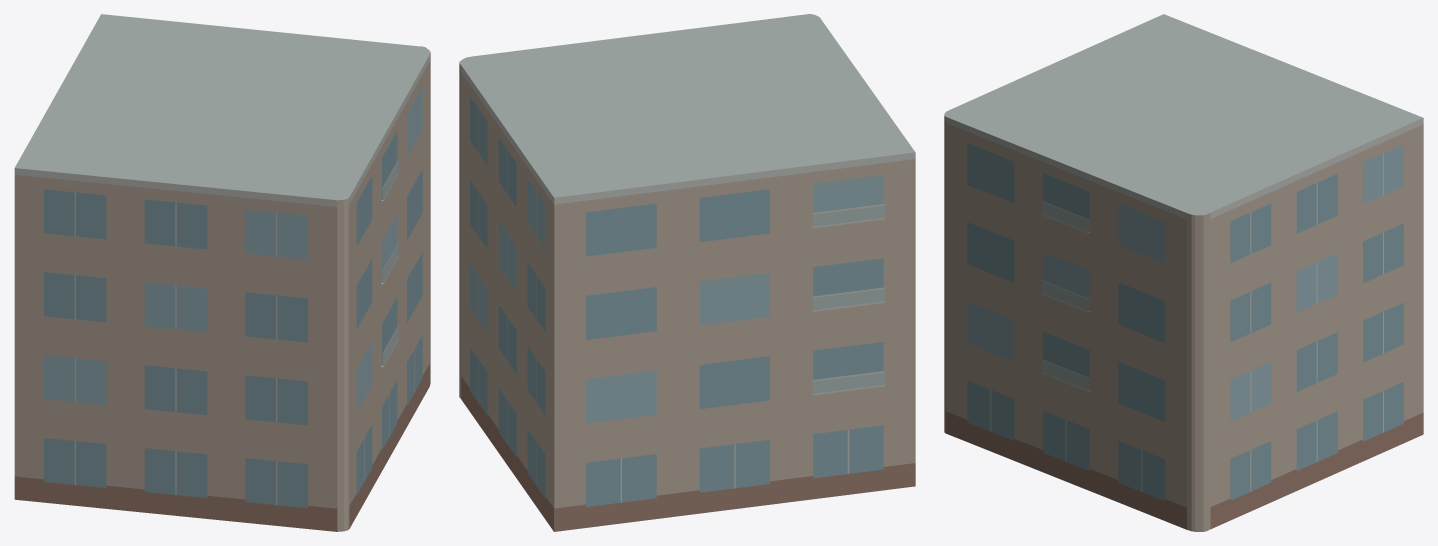
The model's file is survey-upis-32893436.glb.
3 renders of one model, left to right at view 1: azimuth 30°, elevation 25°; view 2: azimuth 150°, elevation 25°; view 3: azimuth 270°, elevation 25°, orthographic. The views are drawn at different scales.
Parts seen in each view (by area): view 1: survey-upis-32893436.tmp; view 2: survey-upis-32893436.tmp; view 3: survey-upis-32893436.tmp.
Boxes of the visible parts, x1,y1,x2,y2 form: survey-upis-32893436.tmp: [14, 14, 430, 531]; survey-upis-32893436.tmp: [459, 14, 915, 531]; survey-upis-32893436.tmp: [944, 14, 1423, 531].
Bounding box in the file's own units: 16.36 × 12 × 16.47.
